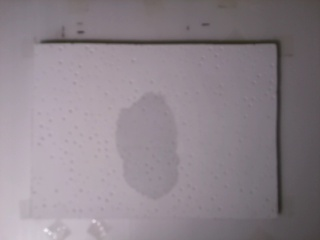Water_detected: (127, 106, 176, 186)
